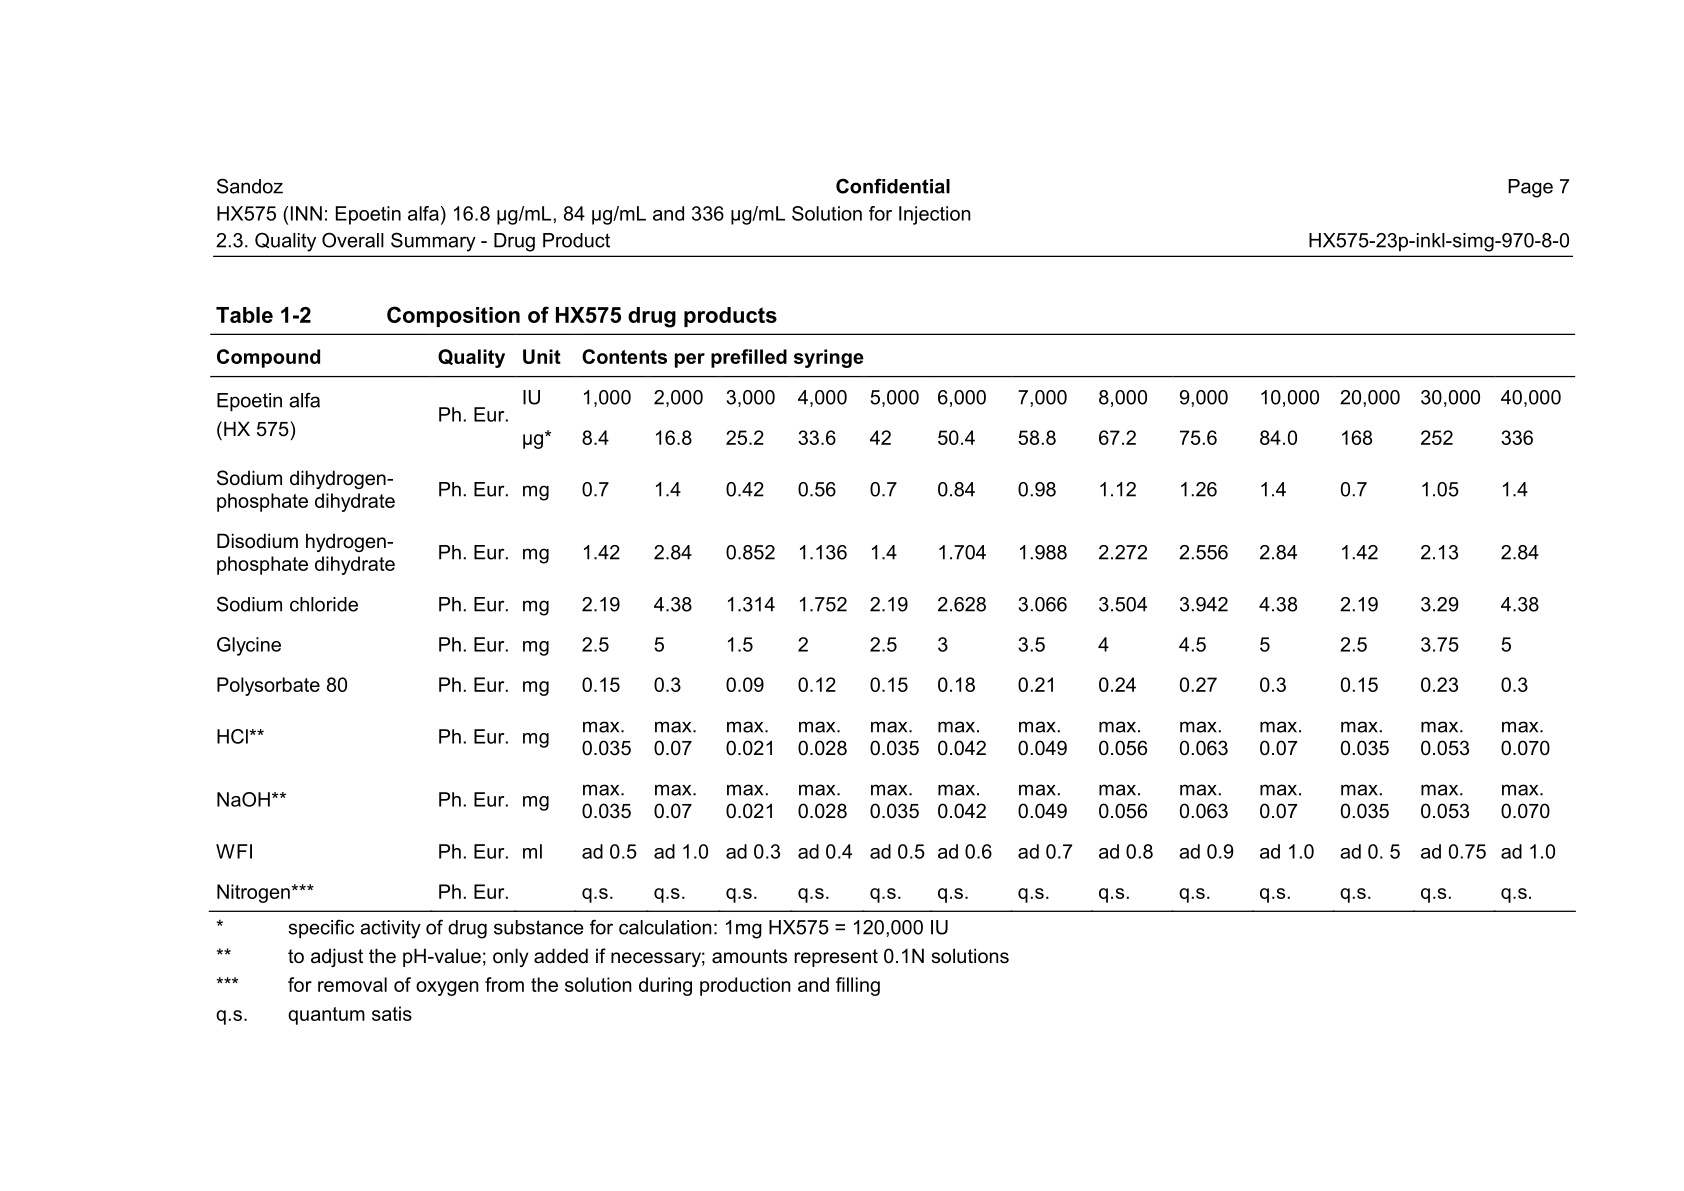partial_lined_merged_cells: (215, 333, 1576, 913)
